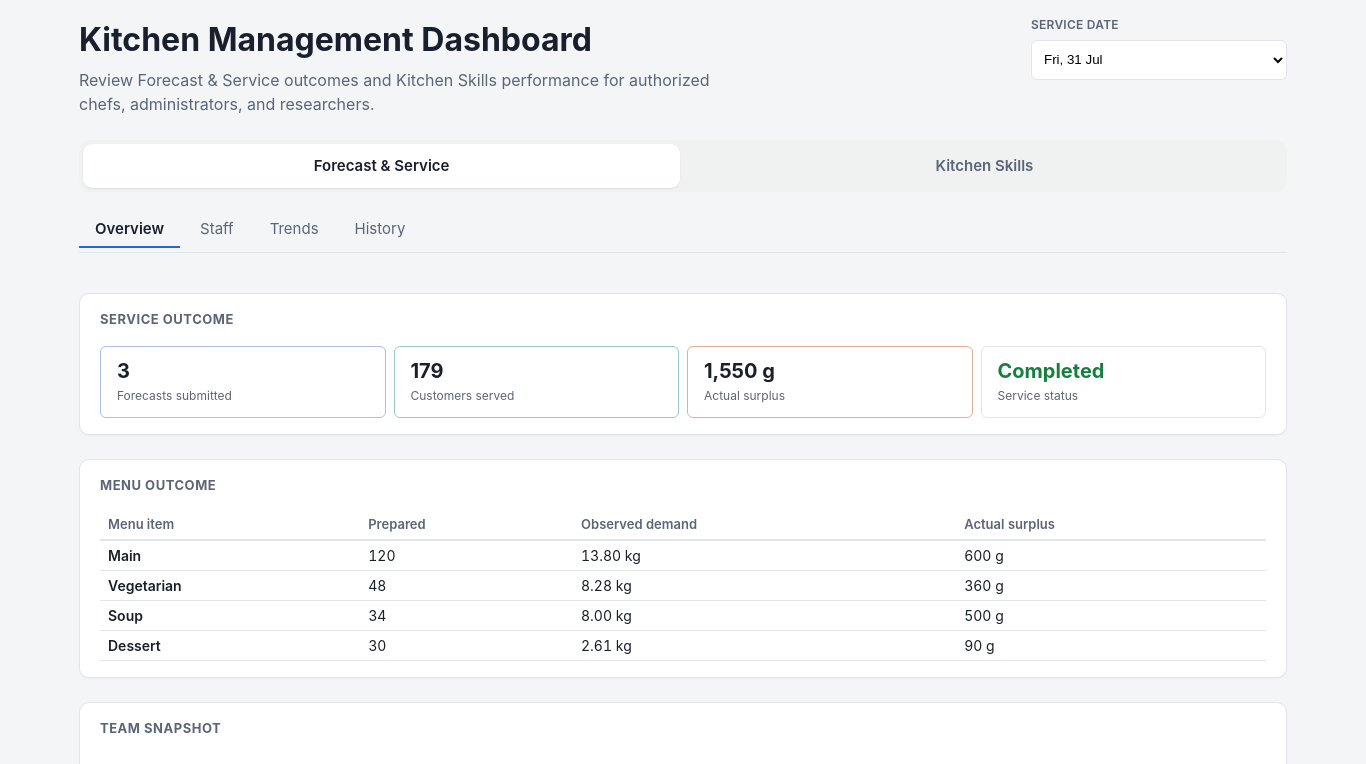
admin preservation › shows real staff names on admin page
Click the tab with test id "kitchen-mgmt-primary-tab-staff": (217, 228) [184,208,250,248]
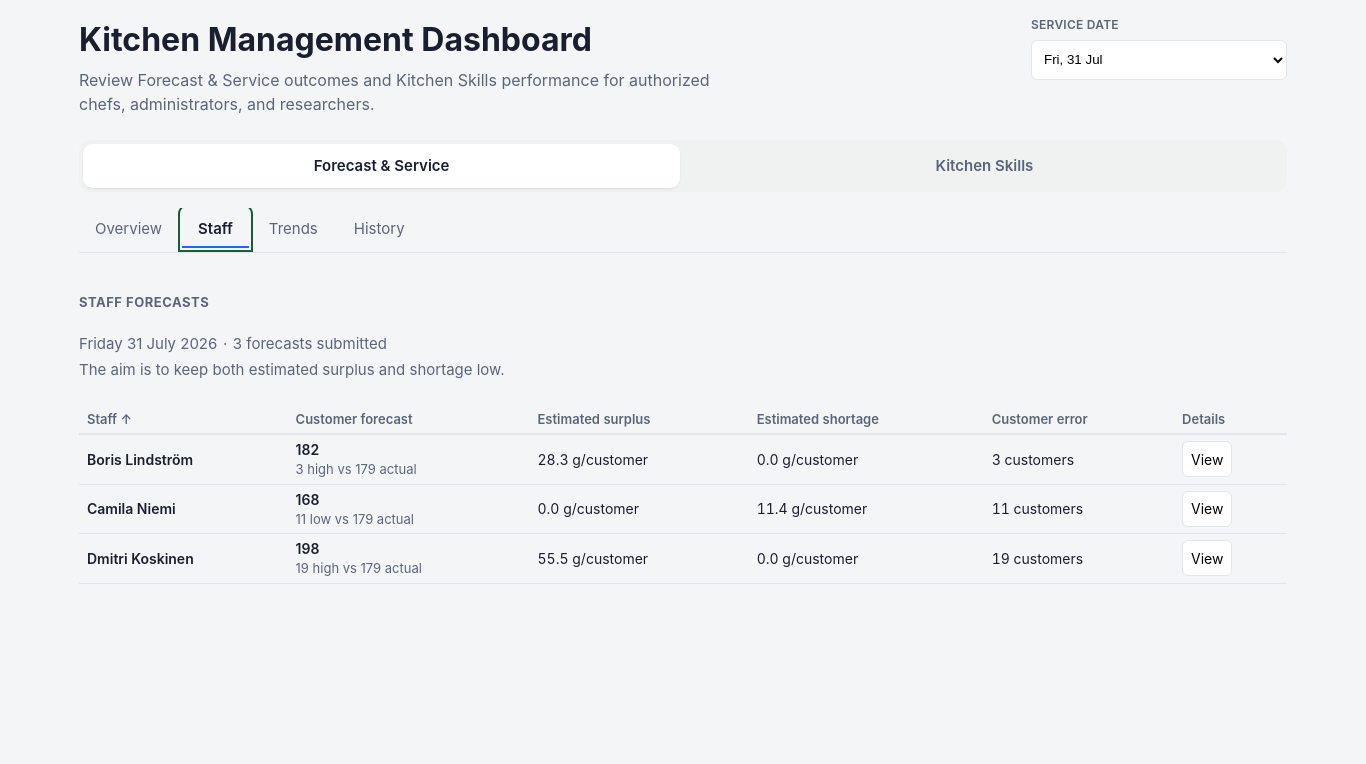
Expected: the column heading with test id "staff-result-name-fixture-user-b" reads "Boris Lindström", [87,451,193,468]
